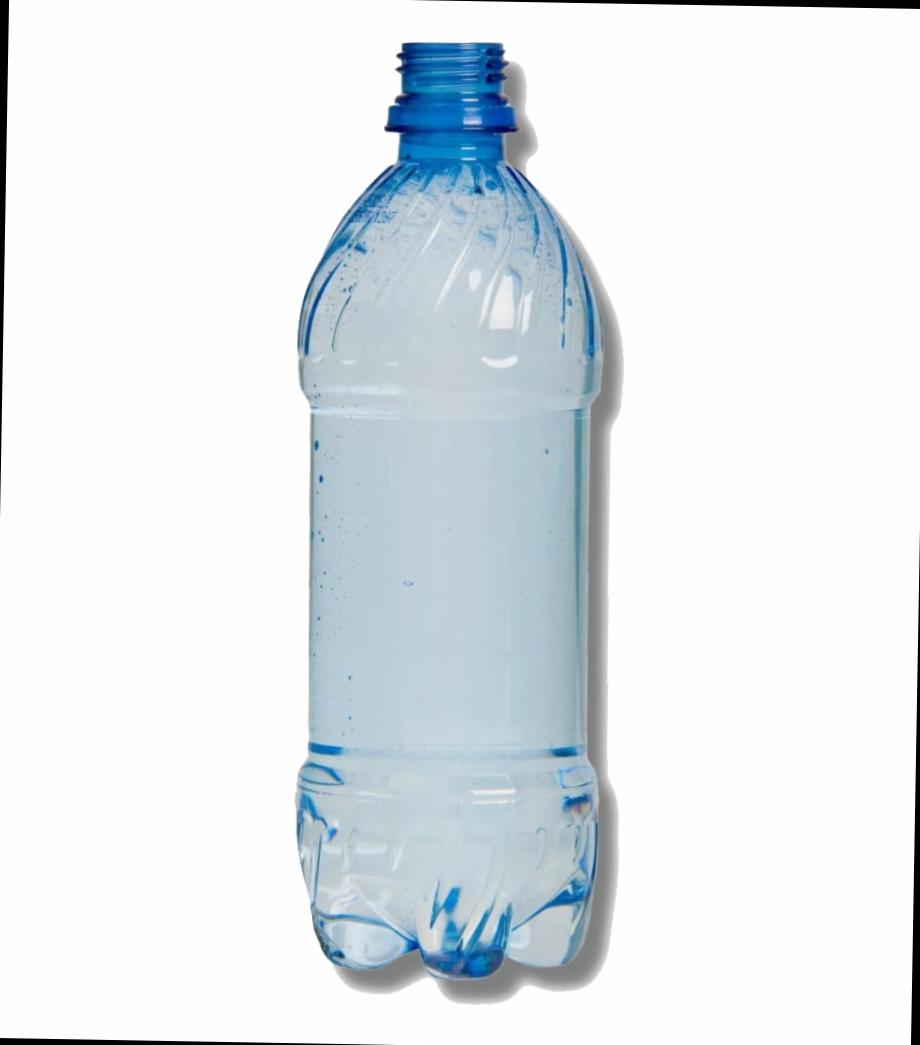plastic: (212, 32, 703, 1014)
